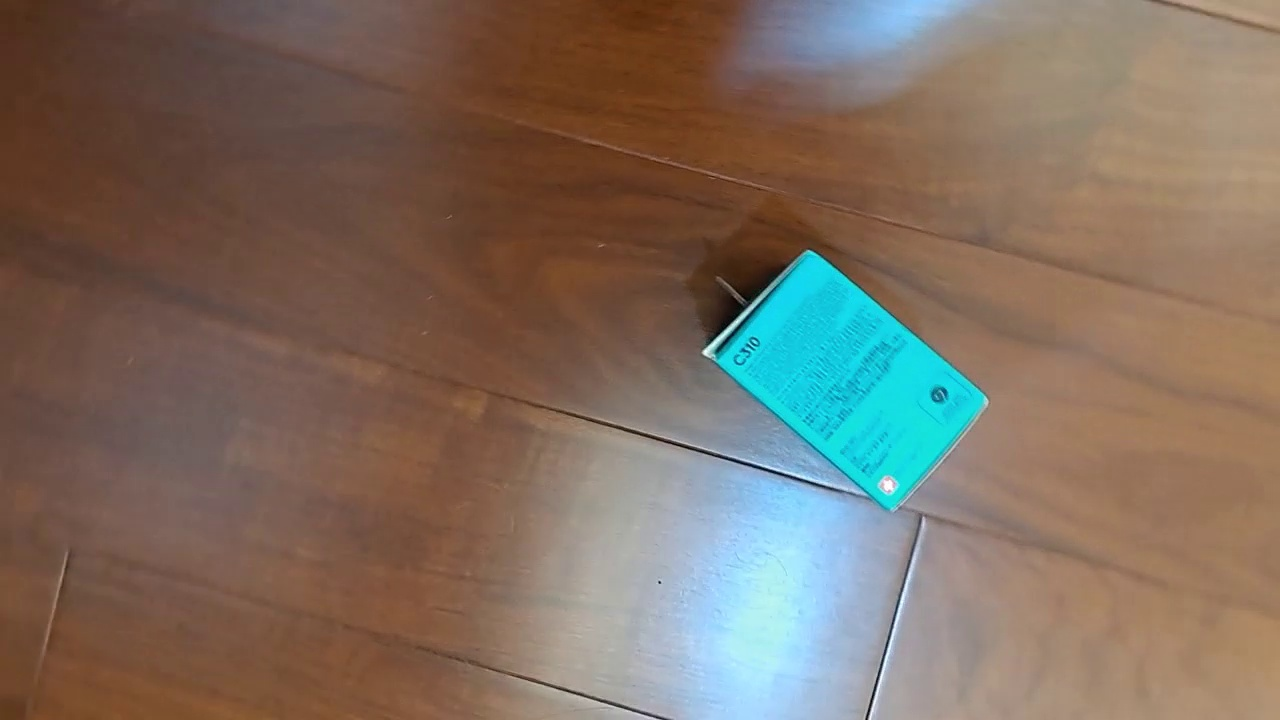webcam: (701, 248, 990, 514)
